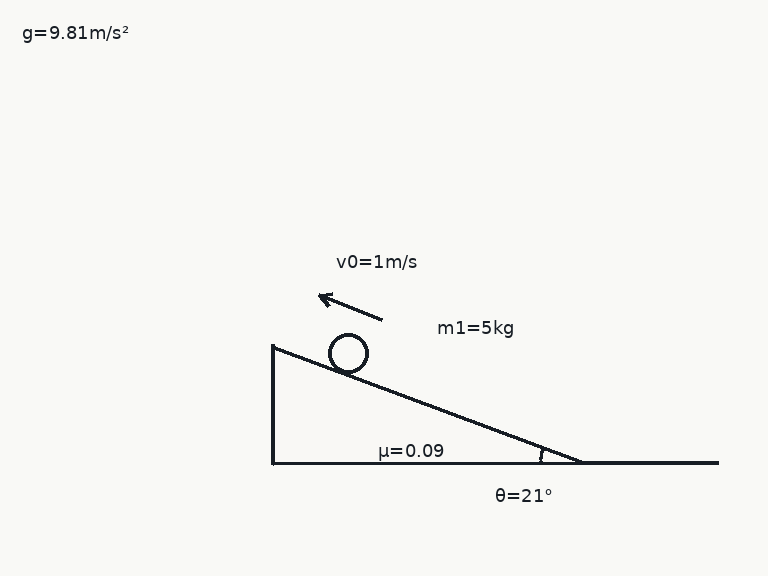ball: (326, 331, 370, 375)
ramp: (270, 343, 582, 465)
